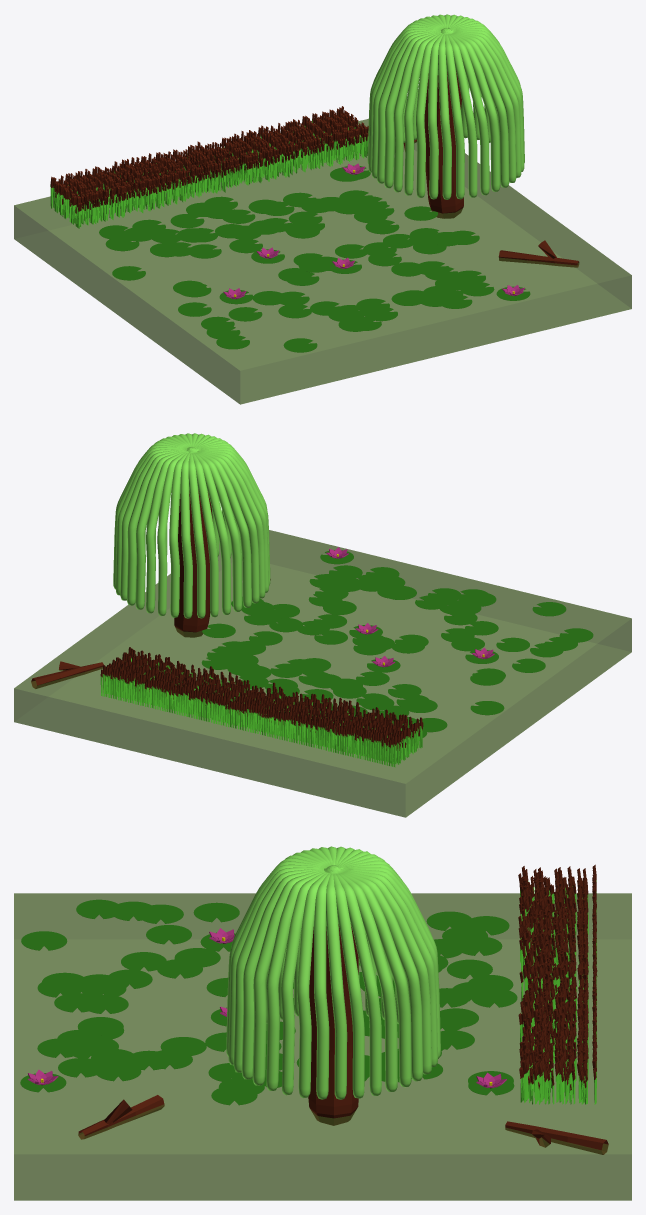
Rendered from marais.glb.
3 renders of one model, top to bottom at view 1: azimuth 30°, elevation 25°; view 2: azimuth 150°, elevation 25°; view 3: azimuth 270°, elevation 25°, orthographic. The views are drawn at different scales.
Parts seen in each view (by area): view 1: Cube, Arbre, quenouille, tronc.001; view 2: Cube, Arbre, quenouille, tronc; view 3: Cube, Arbre, quenouille, tronc, tronc.001.
Boxes of the visible parts, bbox=[...] form: Cube: bbox=[14, 119, 631, 404]; Arbre: bbox=[367, 14, 524, 218]; quenouille: bbox=[50, 106, 368, 228]; tronc.001: bbox=[498, 240, 579, 267]; Cube: bbox=[14, 530, 631, 817]; Arbre: bbox=[113, 433, 270, 637]; quenouille: bbox=[100, 647, 423, 767]; tronc: bbox=[31, 661, 103, 688]; Cube: bbox=[14, 893, 631, 1200]; Arbre: bbox=[226, 846, 440, 1125]; quenouille: bbox=[518, 864, 597, 1104]; tronc: bbox=[505, 1121, 608, 1154]; tronc.001: bbox=[78, 1095, 164, 1139].
Bounding box in the file's own units: 24.27 × 12.47 × 24.27.
